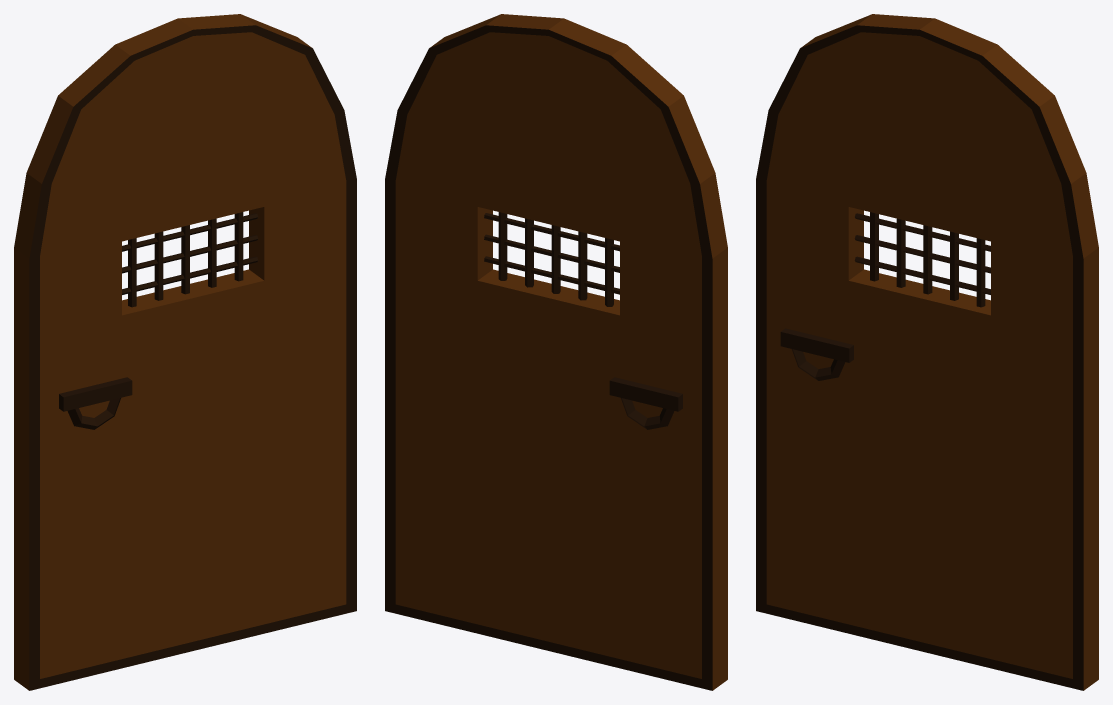
The model's file is Door.fbx.
3 renders of one model, left to right at view 1: azimuth 30°, elevation 25°; view 2: azimuth 150°, elevation 25°; view 3: azimuth 330°, elevation 25°, orthographic.
Parts seen in each view (by area): view 1: Door; view 2: Door; view 3: Door.
Boxes of the visible parts, x1,y1,x2,y2 form: Door: (14, 14, 356, 690); Door: (385, 14, 727, 690); Door: (756, 14, 1098, 690).
Size of the model in its own units: 183 by 332 by 24.14.
